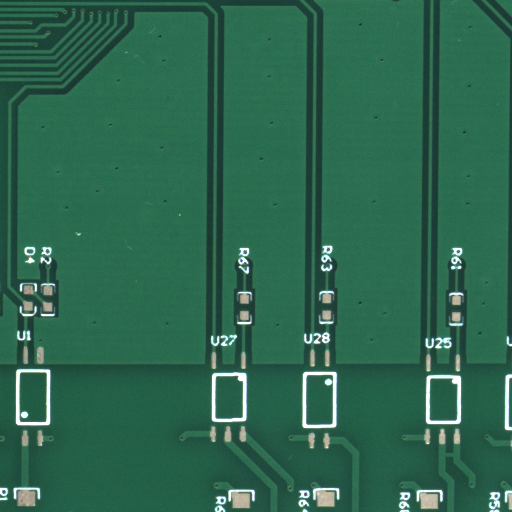Short: (449, 454, 462, 463)
